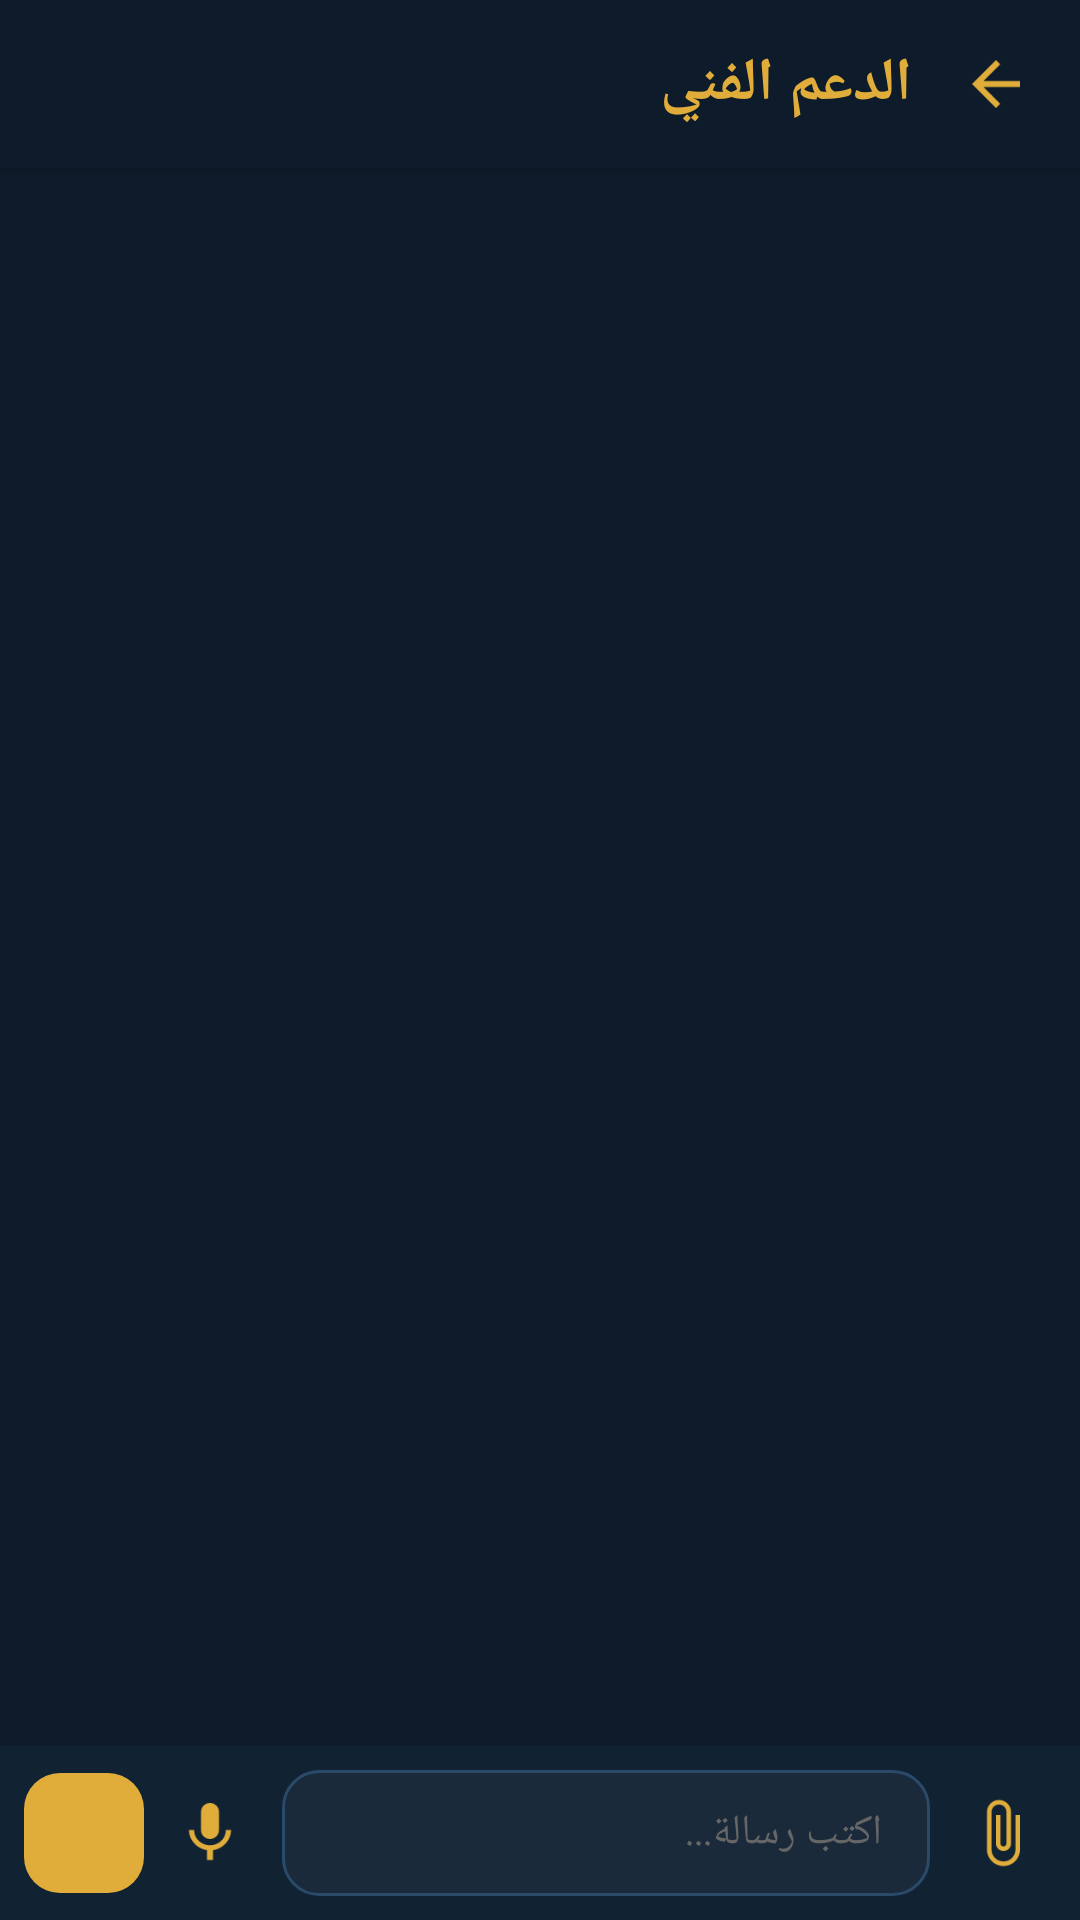

Point at icon controls on the screen. Image size 1080x1920, points as point (x, y).
إرفاق صورة: point (1003, 1833)
تسجيل صوتي: point (210, 1832)
رجوع: point (996, 84)
